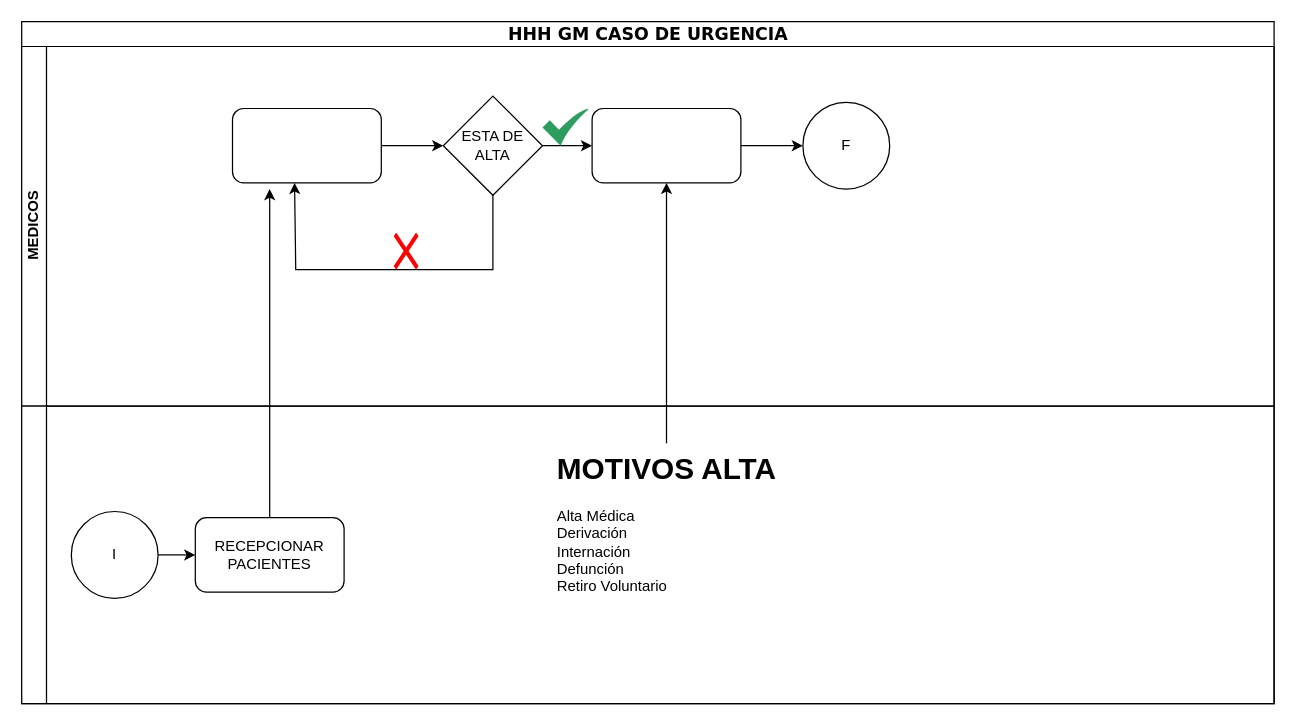
This 1296x725 diagram has some shape labels left out. Each missing label, with the box of its shape:
ASIGNAR MOTIVO ALTA: (591, 107, 741, 183)
ATENDER PACIENTE: (231, 107, 381, 183)
GESTION DE PACIENTES: (20, 405, 1274, 704)
